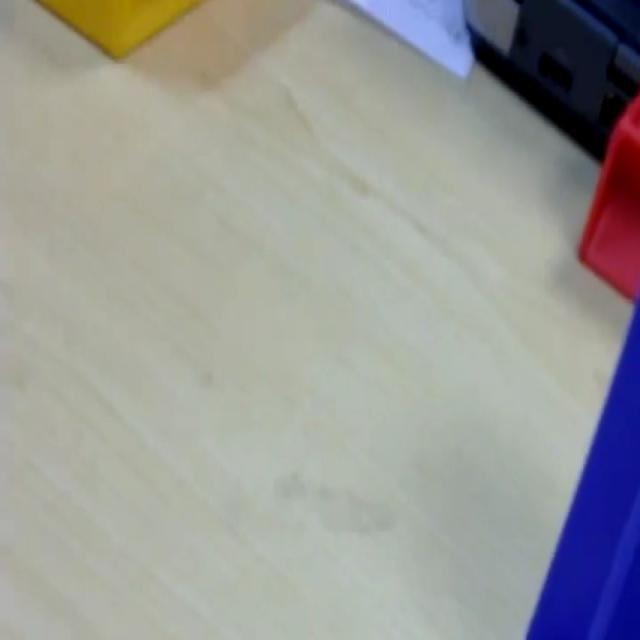blue_block: (523, 293, 638, 636)
red_block: (576, 89, 639, 303)
yellow_block: (34, 0, 202, 60)
